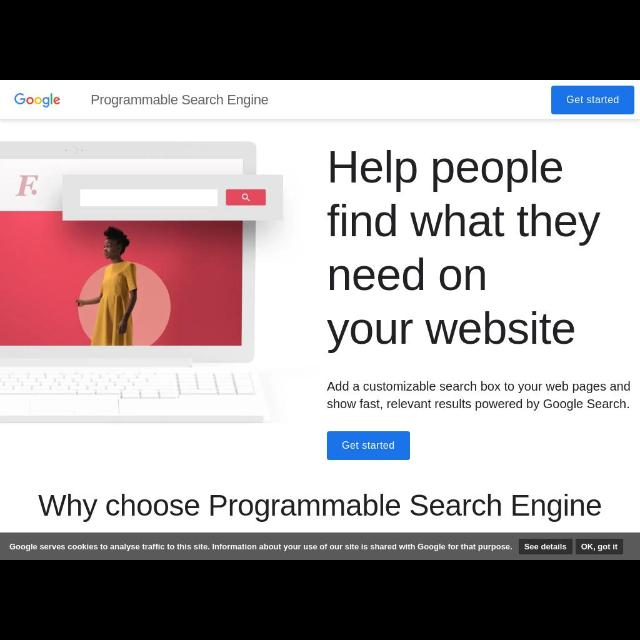image: (0, 140, 284, 424), (15, 94, 59, 108)
text: (330, 150, 600, 358), (38, 494, 600, 524), (328, 381, 632, 411), (9, 543, 514, 551), (92, 94, 270, 106), (566, 94, 620, 104), (342, 440, 394, 450), (524, 544, 568, 550), (582, 544, 618, 550)
textbutton: (552, 86, 634, 114), (327, 433, 411, 459), (518, 538, 572, 554), (576, 538, 622, 554)
toolbar: (1, 82, 639, 118)
